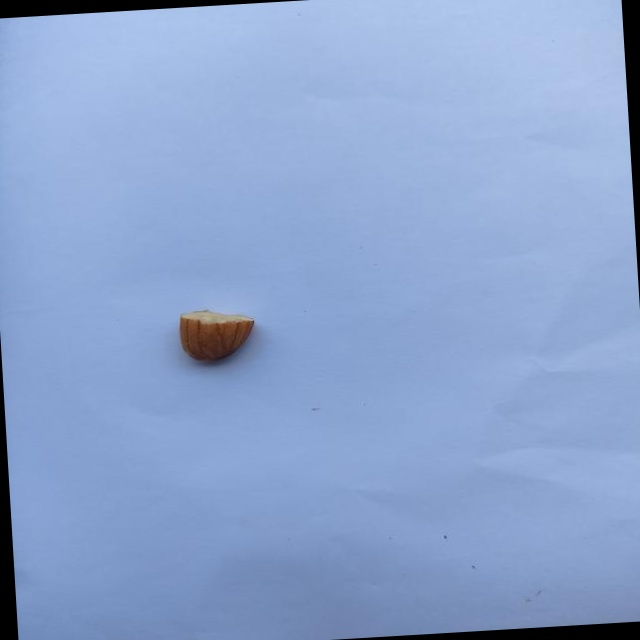grade4: (171, 303, 266, 370)
